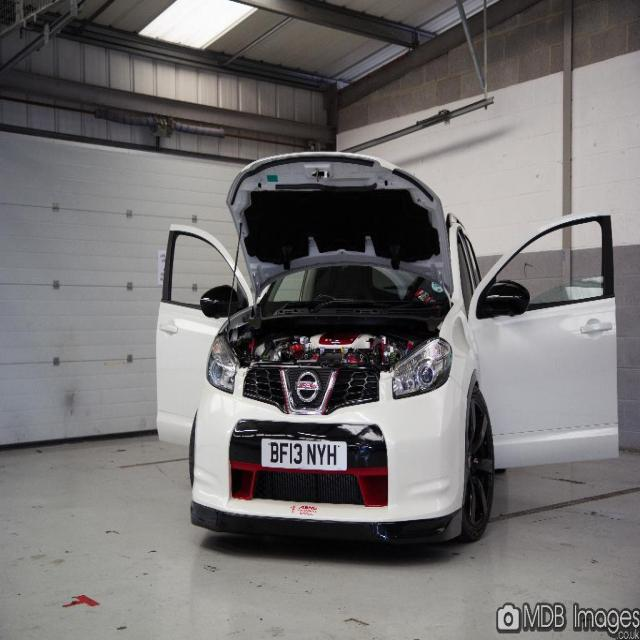car: (155, 153, 618, 550)
